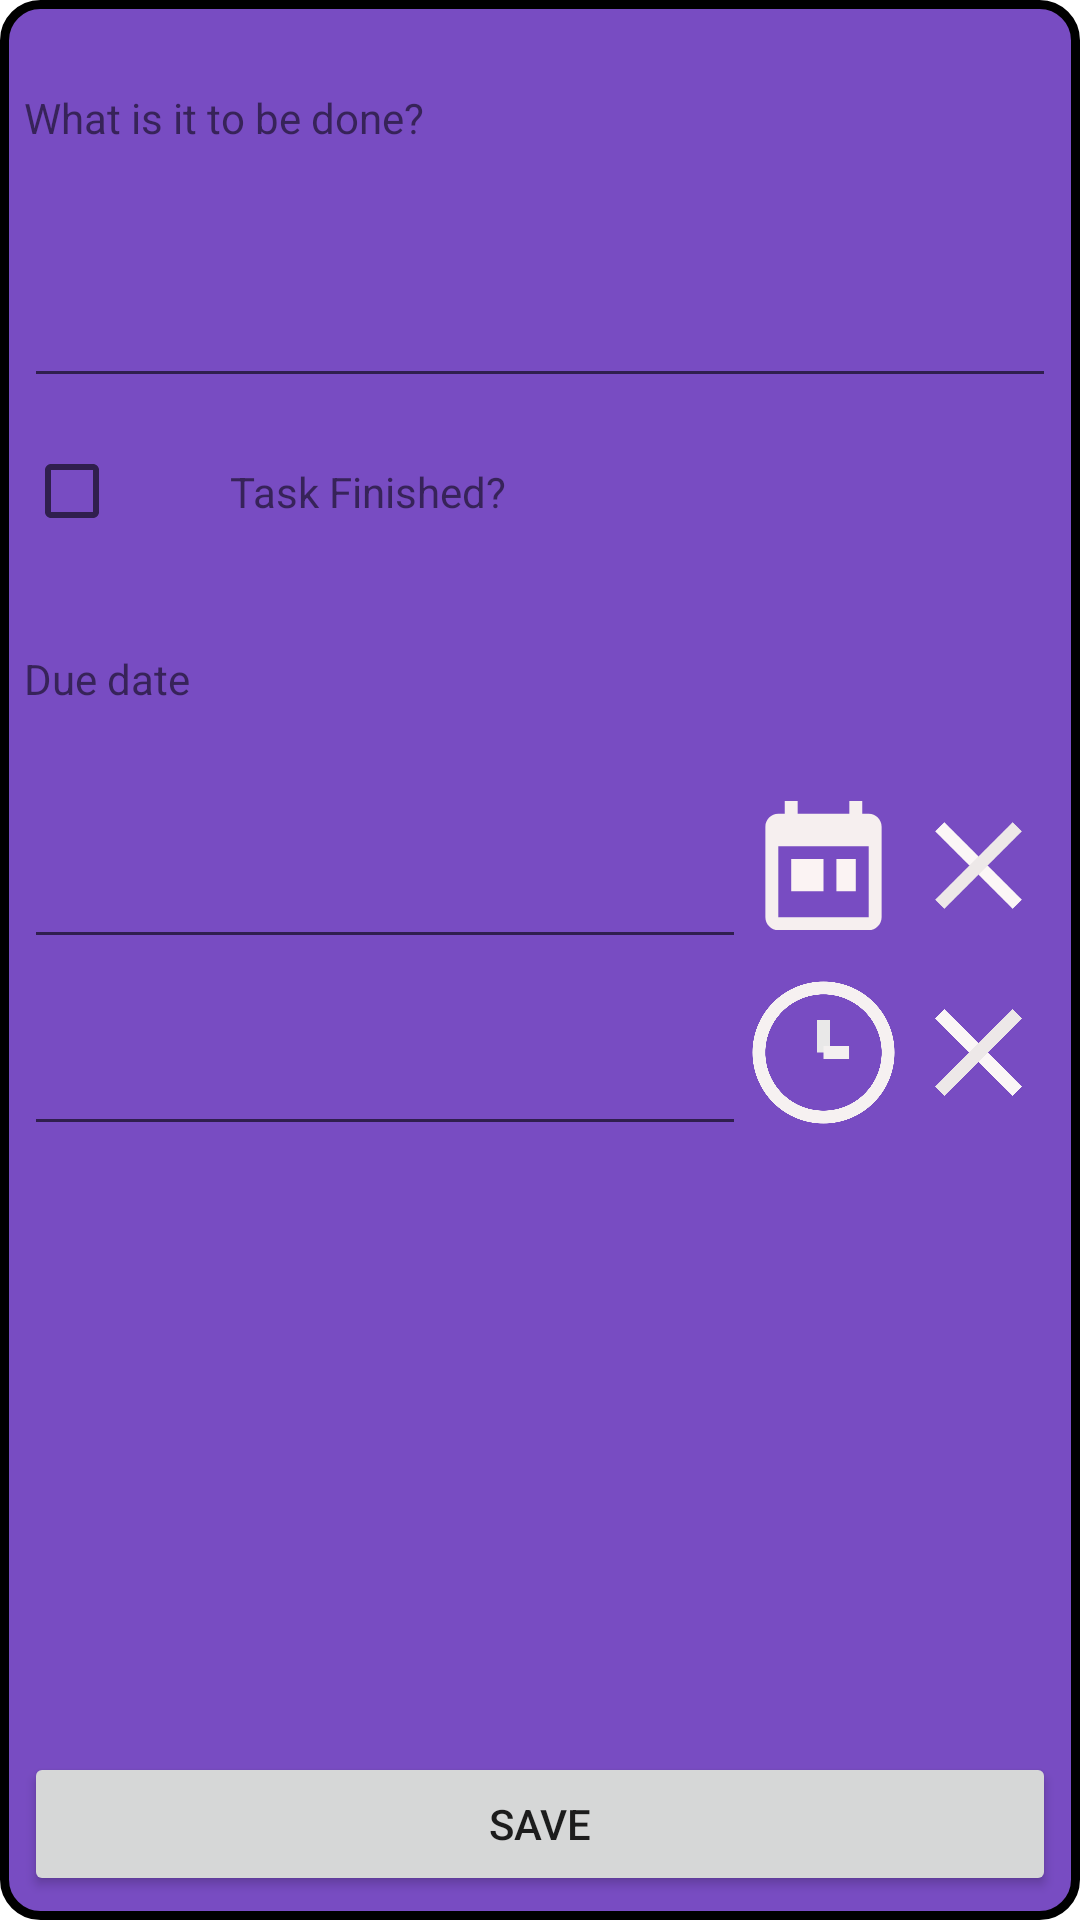

Icons on this 1080*1920 Android screen, each with its box as [left=x1, top=y1, right=x2, bottom=y2]:
calendar: [left=765, top=801, right=882, bottom=930]
close: [left=935, top=822, right=1022, bottom=909], [left=935, top=1009, right=1022, bottom=1096]
watch: [left=752, top=981, right=895, bottom=1124]
